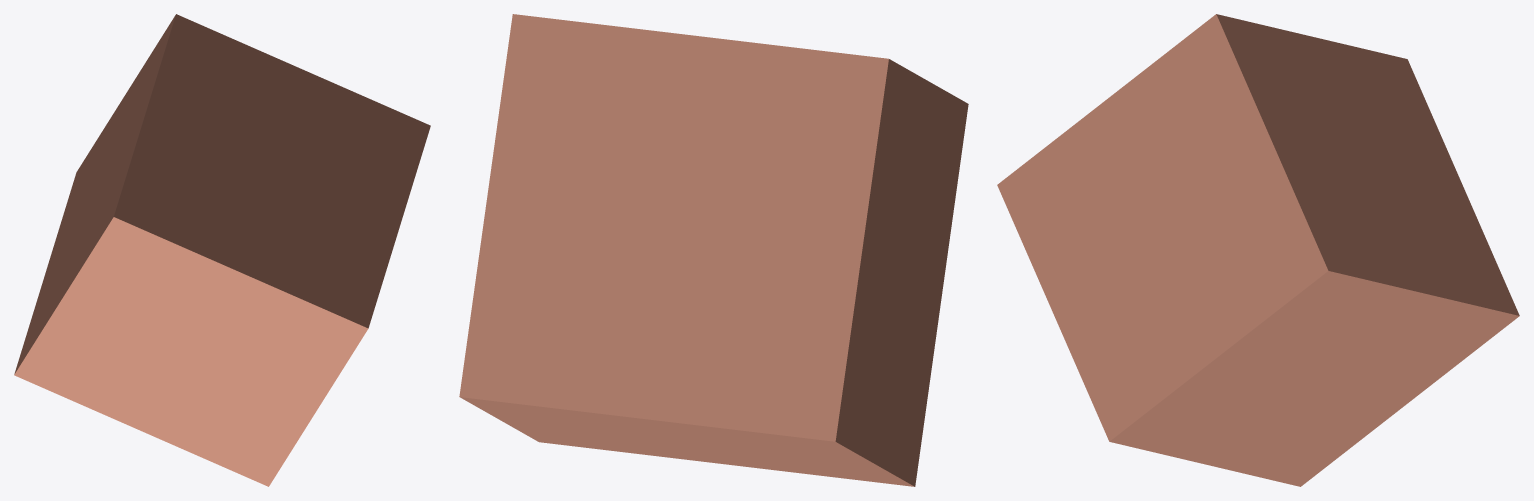
The model's file is grounded.glb.
The picture shows the model from 3 angles, left to right: view 1: azimuth 30°, elevation 25°; view 2: azimuth 150°, elevation 25°; view 3: azimuth 270°, elevation 25°; orthographic projection. The views are drawn at different scales.
Bounding box in the file's own units: 2.91 × 2.87 × 3.35.
